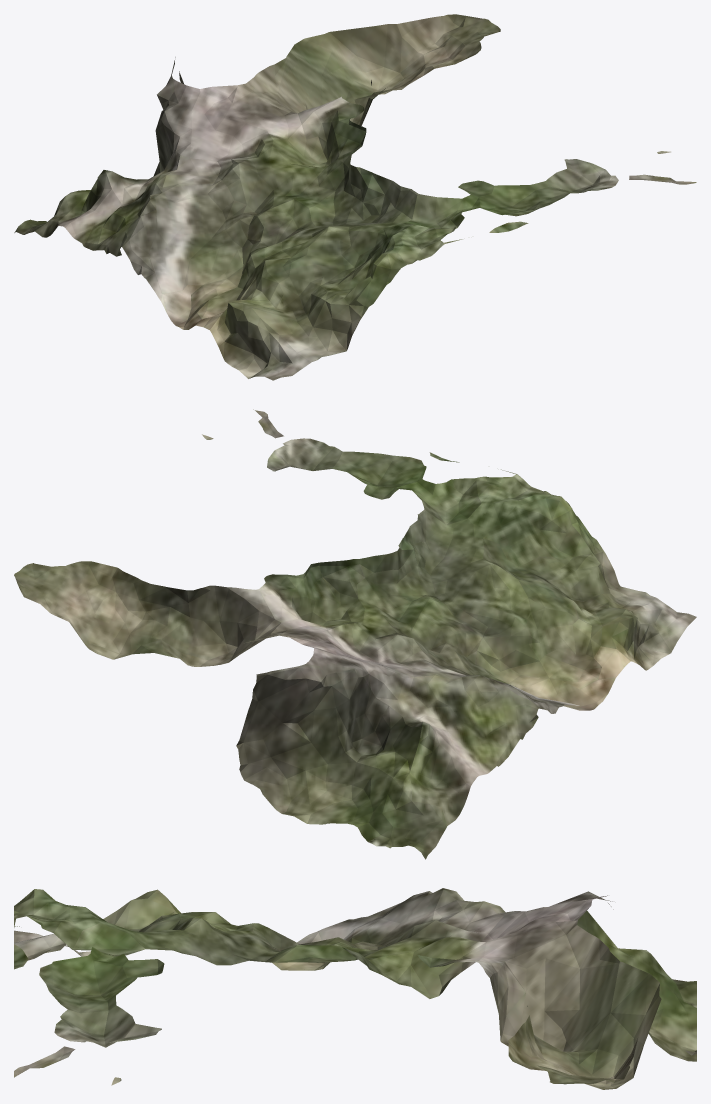
3 renders of one model, top to bottom at view 1: azimuth 30°, elevation 25°; view 2: azimuth 150°, elevation 25°; view 3: azimuth 270°, elevation 25°, orthographic. The views are drawn at different scales.
Size of the model in its own units: 5.73 by 1.73 by 5.9.
2 materials, 2 textured.
